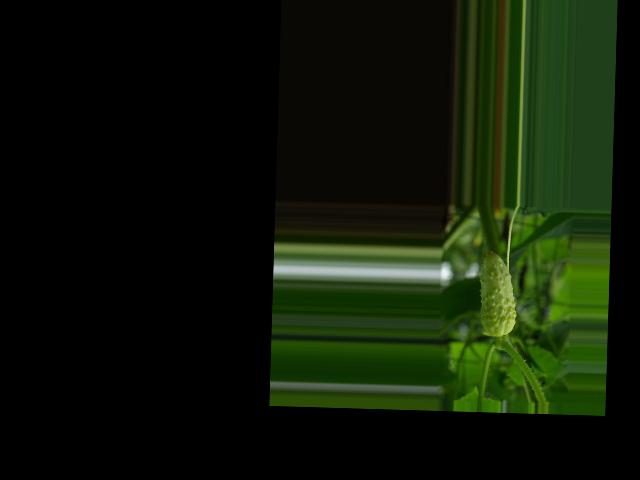cucumber: (479, 250, 518, 337)
